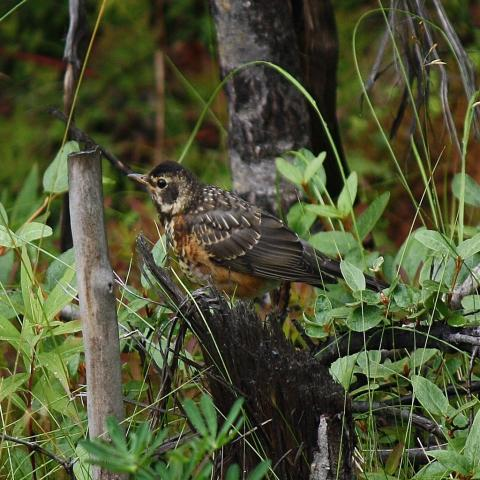bird: (125, 158, 390, 310)
